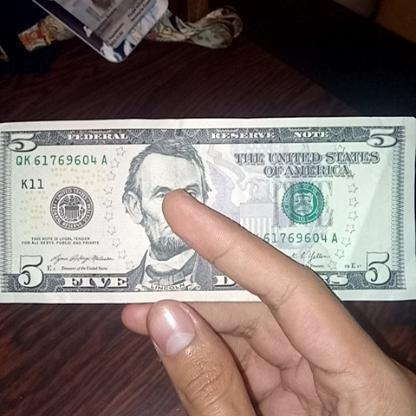five-front: (0, 122, 416, 306)
